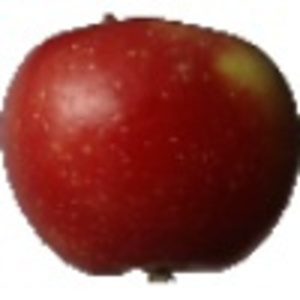maçã braeburn: (1, 10, 299, 277)
